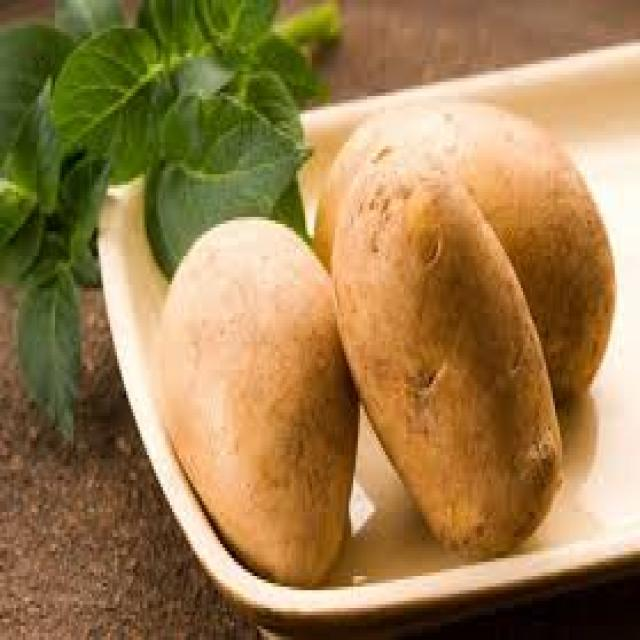Organik: (332, 159, 562, 538), (334, 102, 616, 392), (154, 214, 367, 590), (2, 0, 310, 235)
